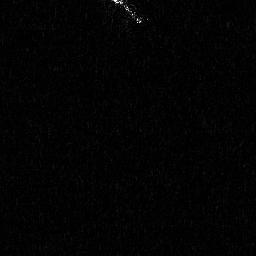ship: (111, 1, 151, 24)
